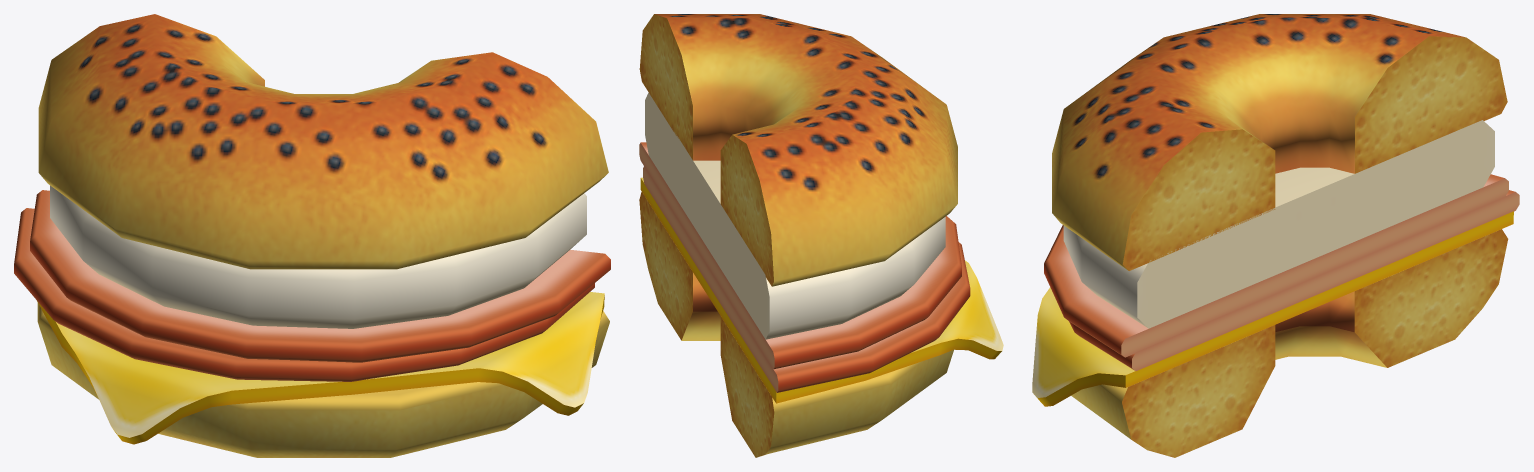
Rendered from 007-Bagel_Breakfast_Half.FBX.
3 renders of one model, left to right at view 1: azimuth 30°, elevation 25°; view 2: azimuth 150°, elevation 25°; view 3: azimuth 270°, elevation 25°, orthographic. The views are drawn at different scales.
Visible parts, largest first — view 1: 007-Bagel_Breakfast_Half; view 2: 007-Bagel_Breakfast_Half; view 3: 007-Bagel_Breakfast_Half.
Boxes of the visible parts, x1,y1,x2,y2 form: 007-Bagel_Breakfast_Half: [14, 14, 610, 457]; 007-Bagel_Breakfast_Half: [639, 14, 1003, 457]; 007-Bagel_Breakfast_Half: [1032, 14, 1519, 457].
Bounding box in the file's own units: 15.58 × 11.19 × 15.72.
